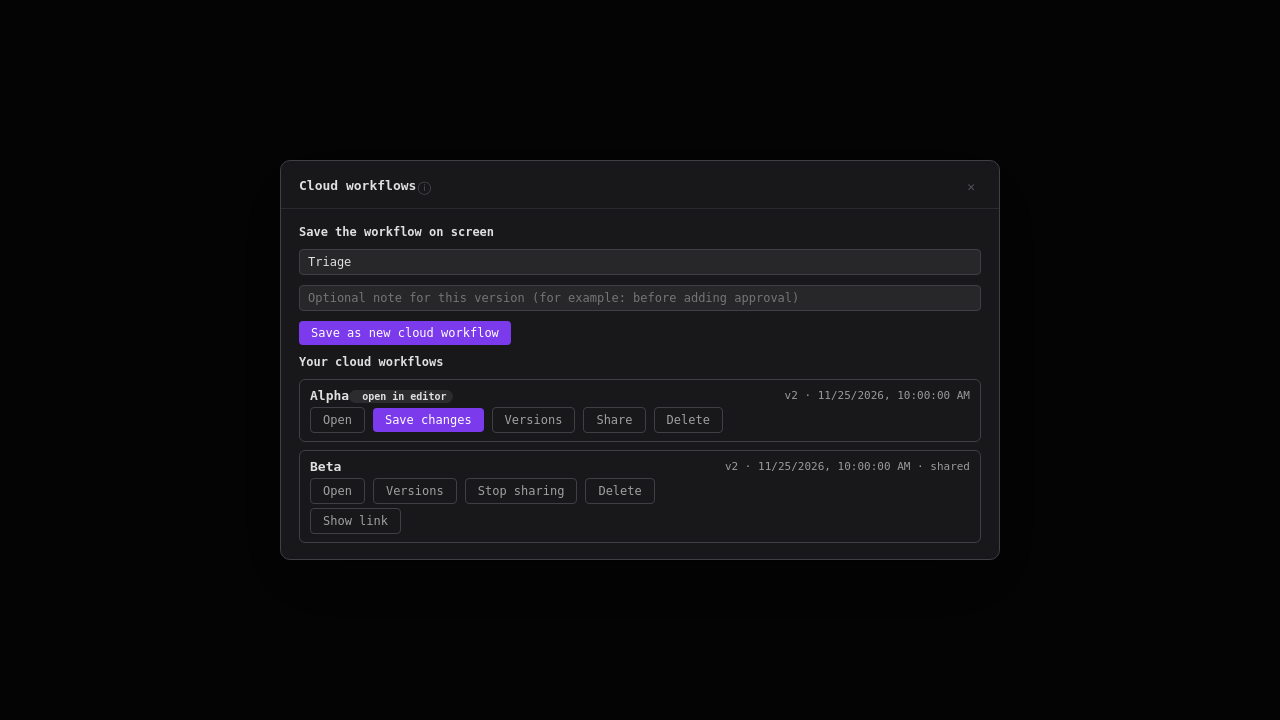
Test: CloudModal — list and save › offers Save changes only for the workflow open in the editor, and reports an unchanged save
Click the button with aria-label "Save to Alpha".
click(428, 420)  # box [373,408,484,432]
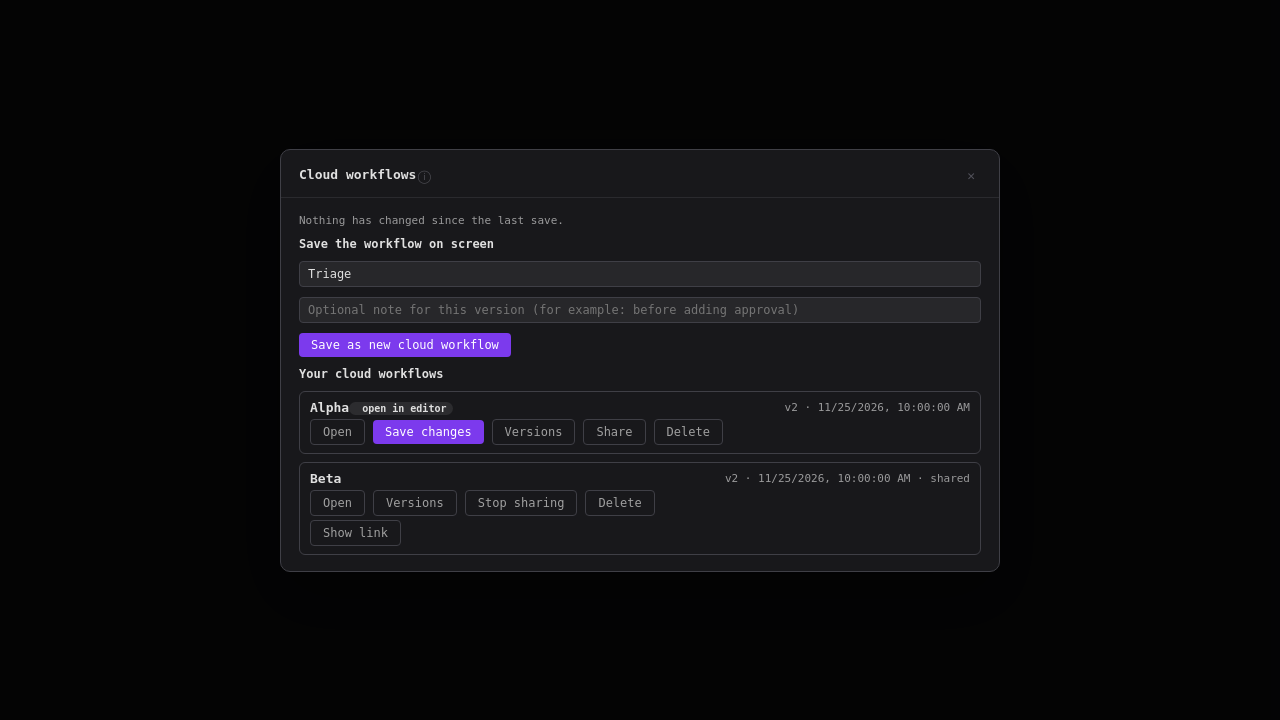
Check: the message reads "Nothing has changed since the last save.", box [299,214,564,226]
